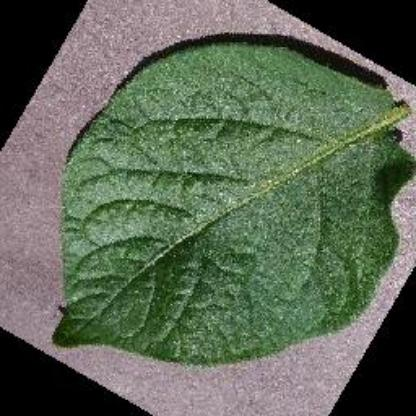Healthy-plant: (47, 37, 416, 366)
